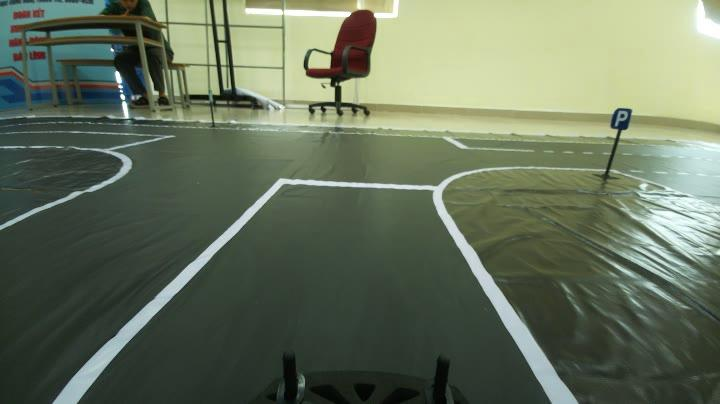parking: (605, 106, 636, 133)
